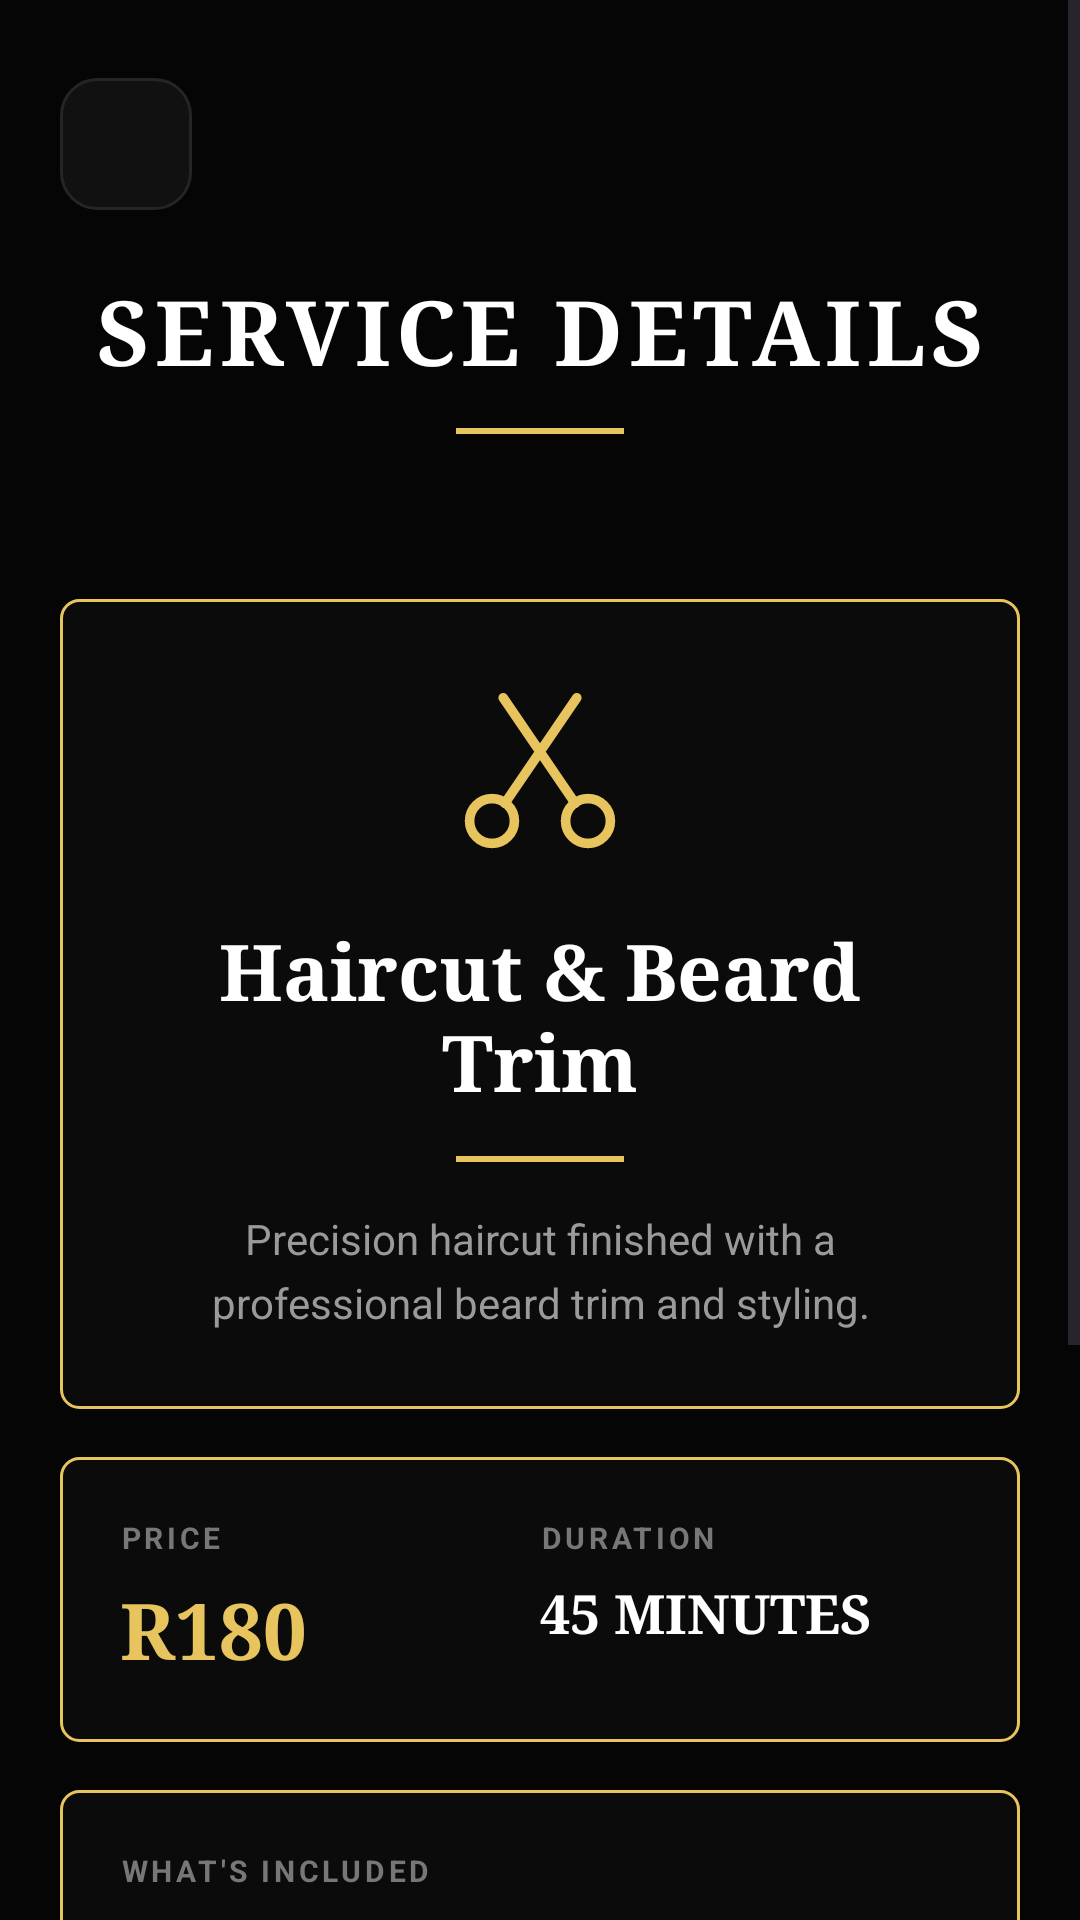

Where to tap for icons on this 1080w x 1920h app screen, as [x,y]:
scissorsline: [540,771]
